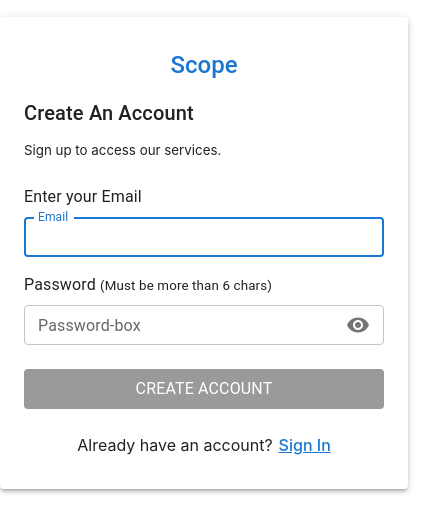
it: Register Component › should show a loading message when creating an account
Type "test@example.com" into the field labelled "Email".
click(204, 237); type("test@example.com")  # box [24, 217, 384, 257]
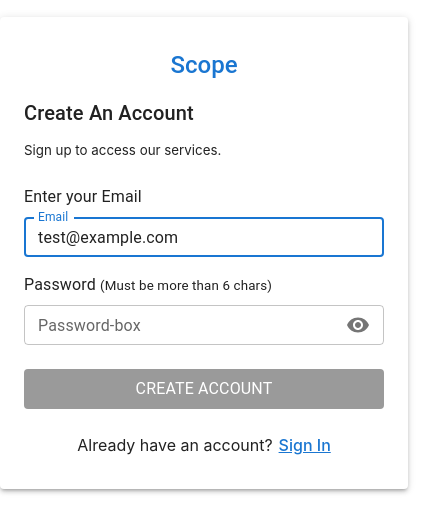
Type "password123" into the password field labelled "Password-box".
click(181, 325); type("password123")  # box [24, 305, 338, 345]
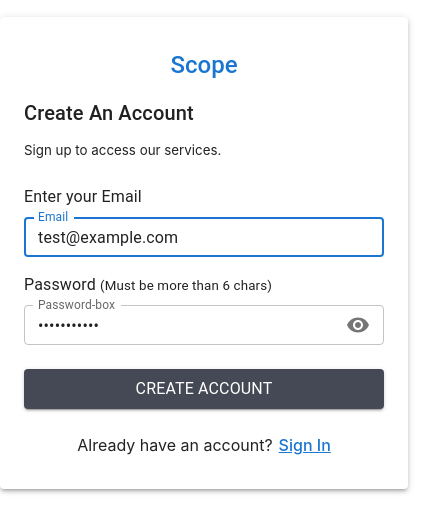
Click the button "CREATE ACCOUNT".
click(204, 389)  # box [24, 369, 384, 409]
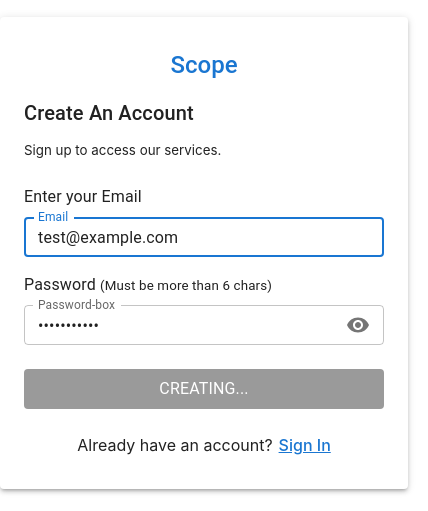
Expected: the text "Creating..." is shown, [159, 377, 249, 401]
